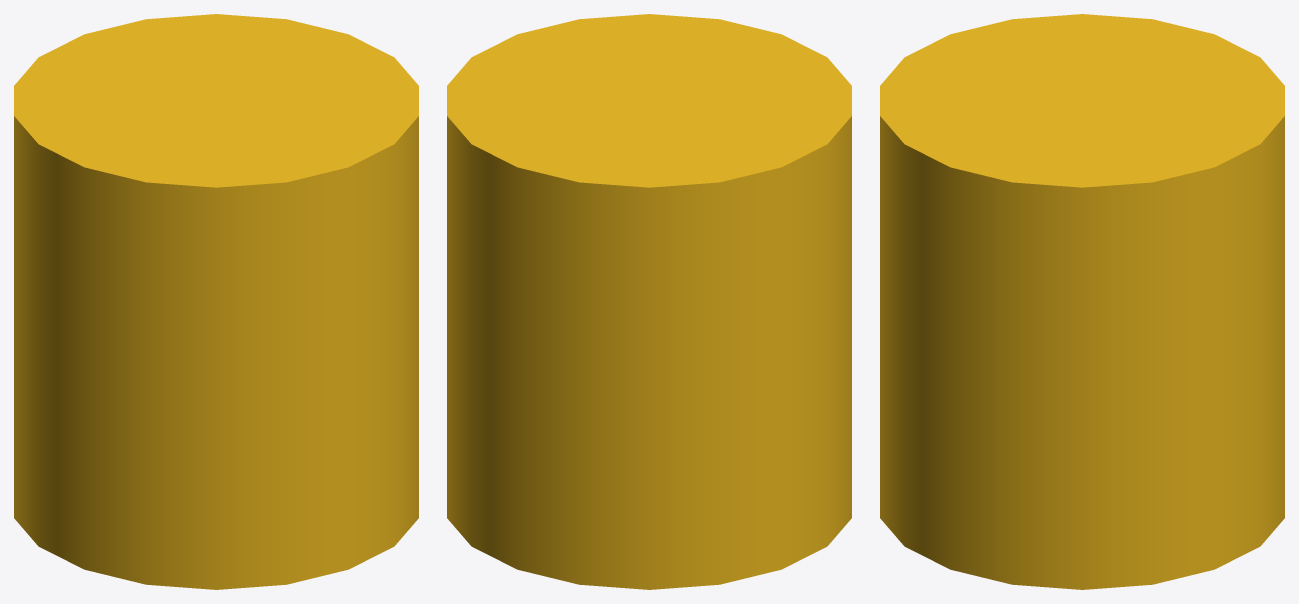
Rendered from Yellow.FBX.
3 renders of one model, left to right at view 1: azimuth 30°, elevation 25°; view 2: azimuth 150°, elevation 25°; view 3: azimuth 270°, elevation 25°, orthographic.
Visible parts, largest first — view 1: Cylinder001; view 2: Cylinder001; view 3: Cylinder001.
Boxes of the visible parts, left/top/right/bottom form: Cylinder001: left=14, top=14, right=418, bottom=589; Cylinder001: left=447, top=14, right=851, bottom=589; Cylinder001: left=880, top=14, right=1284, bottom=589.
Bounding box in the file's own units: 20.84 × 22.5 × 20.52.
